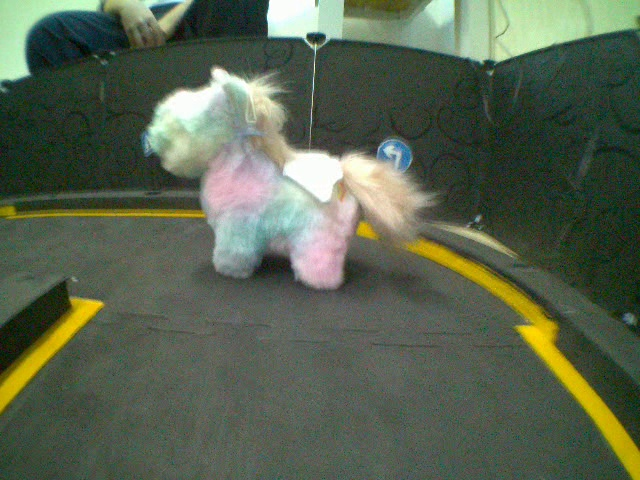unicorn: (137, 61, 428, 294)
